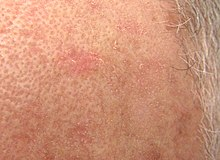Actinic Keratosis: (48, 28, 199, 153)
